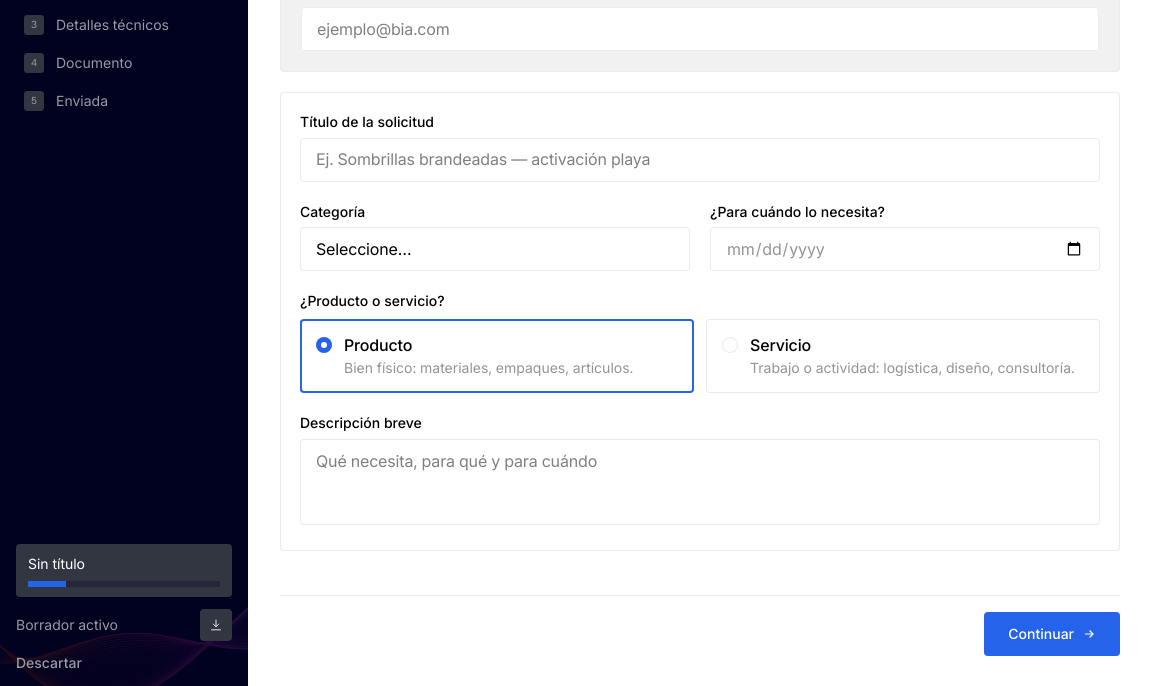
it: SolicitanteWizard › sin correo en la URL pide el correo y no deja continuar
(page scrolled)
Expected: the field labelled "Su correo institucional" is shown, [301, 7, 1099, 51]
Click the button "Continuar" at (1052, 634), box [984, 612, 1120, 656]
(page scrolled)
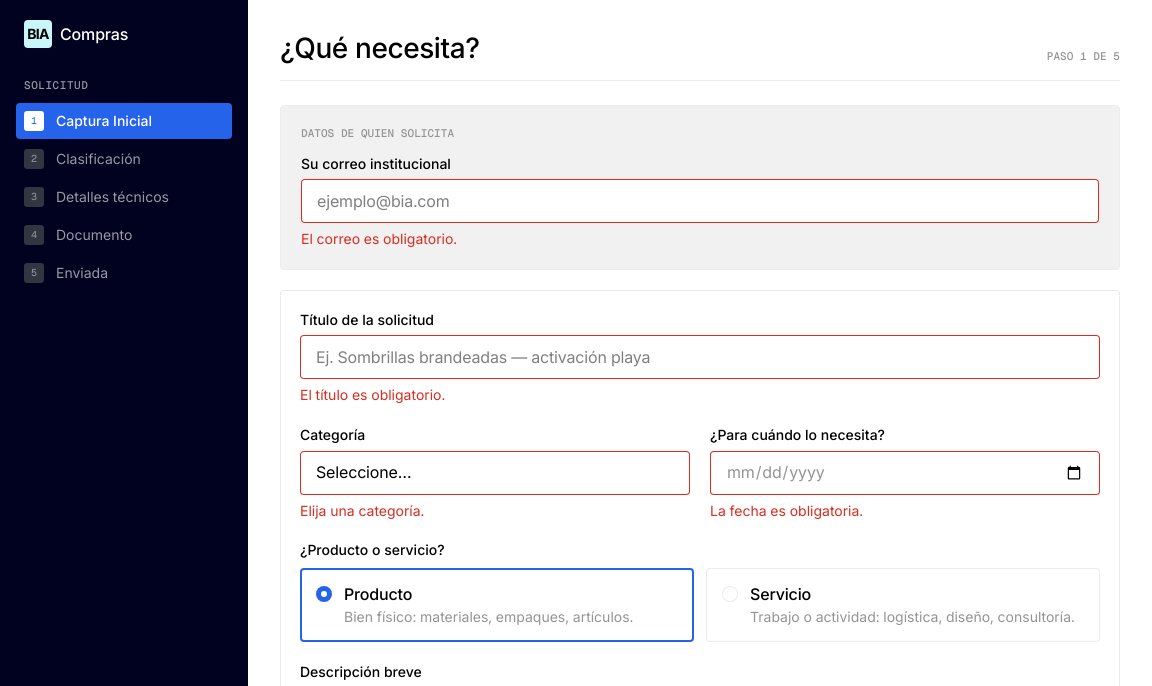
Expected: the heading "¿Qué necesita?" is shown, [280, 32, 480, 64]
Expected: the text "El correo es obligatorio." is shown, [301, 230, 457, 247]
